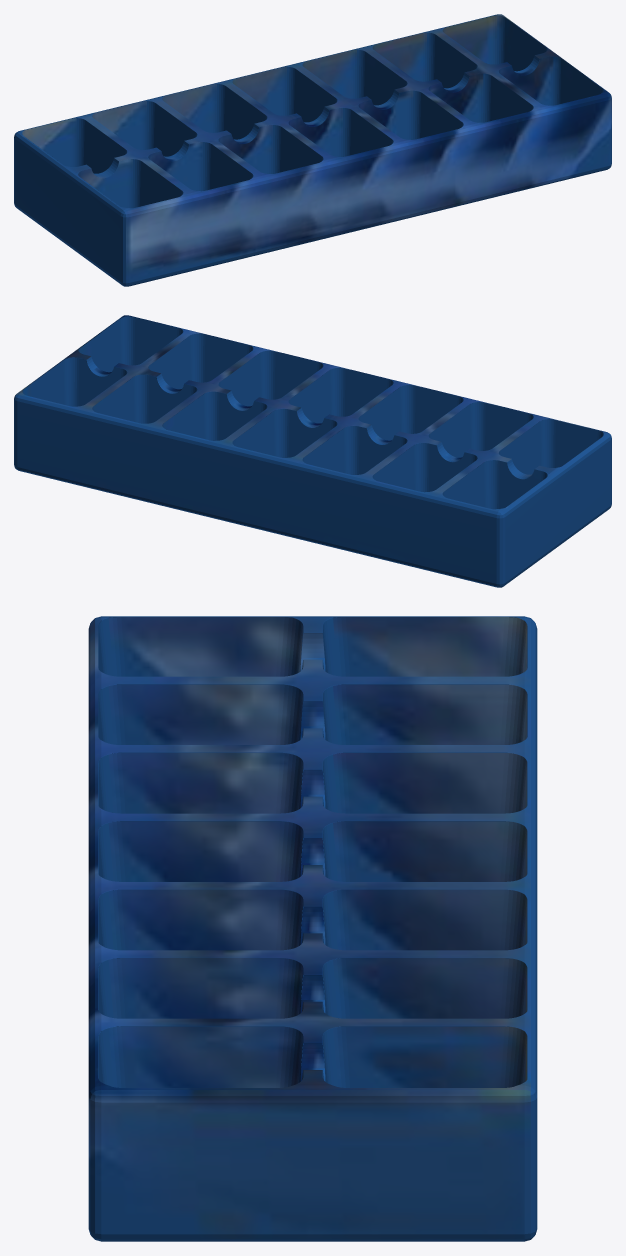
3 renders of one model, top to bottom at view 1: azimuth 30°, elevation 25°; view 2: azimuth 150°, elevation 25°; view 3: azimuth 270°, elevation 25°, orthographic. The views are drawn at different scales.
Visible parts, largest first — view 1: molded tray with rounded wells; view 2: molded tray with rounded wells; view 3: molded tray with rounded wells.
Part boxes in pixels (x1=…): molded tray with rounded wells: x1=14, y1=14, x2=611, y2=286; molded tray with rounded wells: x1=14, y1=315, x2=611, y2=587; molded tray with rounded wells: x1=88, y1=616, x2=537, y2=1241.
Size of the model in its own units: 0.2498 by 0.0377 by 0.099.
Materials: 1 (1 with a texture image).
